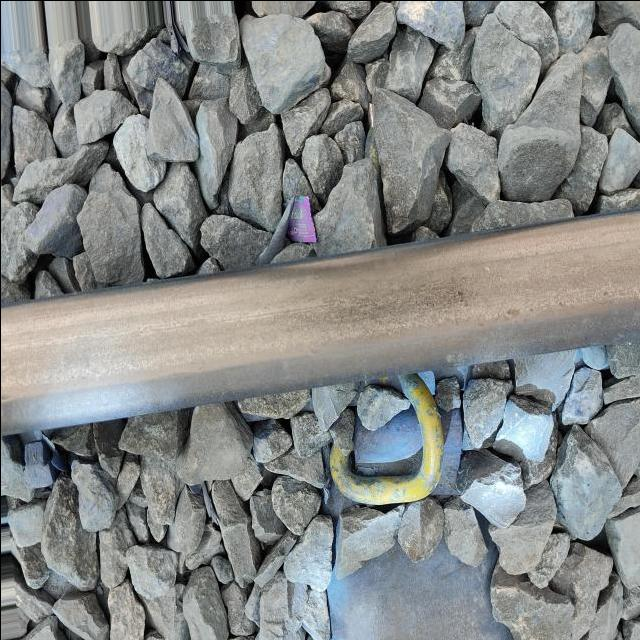broken_rail_medium: (456, 289, 468, 307), (505, 306, 522, 316)
